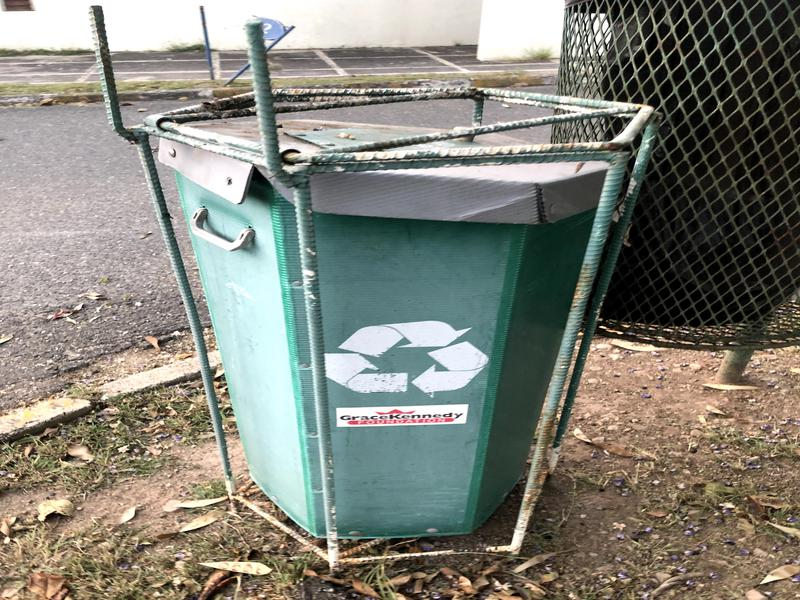18.0053245_-76.7486424_recyclebin: (128, 52, 609, 578)
